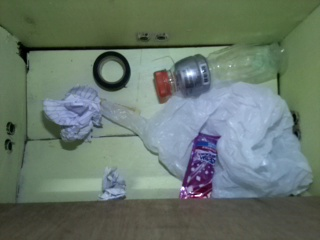bottle: (154, 36, 289, 100)
paper: (42, 83, 104, 148), (101, 165, 128, 201)
plastic-bag: (101, 82, 314, 197)
